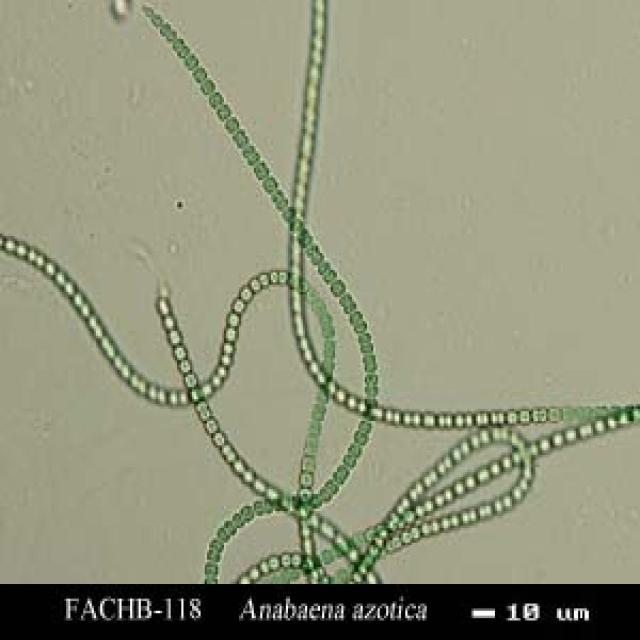Blue Green Algae: (341, 443, 365, 472), (348, 306, 369, 336), (239, 501, 260, 526), (207, 538, 226, 564), (326, 275, 348, 297), (305, 241, 324, 265), (230, 294, 248, 319), (548, 401, 566, 426), (218, 516, 236, 540), (232, 126, 248, 151), (352, 426, 373, 445), (331, 462, 350, 482), (360, 356, 382, 372), (260, 173, 278, 192), (237, 282, 254, 302), (303, 433, 320, 453), (316, 311, 333, 331), (298, 452, 316, 470), (531, 404, 548, 423), (305, 418, 322, 436), (322, 338, 337, 358), (322, 477, 339, 494), (310, 402, 328, 418), (241, 144, 258, 160), (362, 375, 378, 392), (298, 472, 316, 487), (224, 324, 239, 341), (516, 409, 534, 423), (216, 102, 228, 122), (207, 93, 224, 107), (222, 117, 239, 131), (252, 158, 266, 175), (312, 297, 326, 314), (190, 66, 209, 78), (248, 273, 260, 292), (202, 78, 215, 95), (228, 312, 243, 326)
